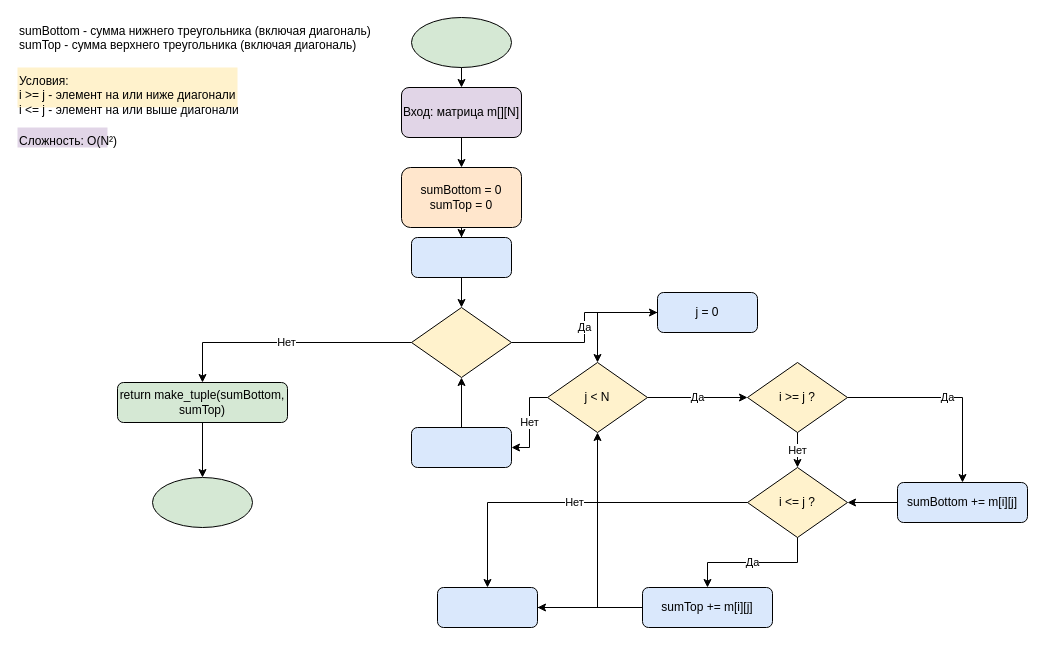
Some shapes in this 1045 by 645 pixel diagram are drawn without their labels. Each missing label, with the box of its shape:
i < N: (410, 306, 512, 378)
i = 0: (410, 236, 512, 278)
i++: (410, 426, 512, 468)
j++: (436, 586, 538, 628)
КОНЕЦ: (152, 476, 252, 528)
НАЧАЛО: (410, 16, 512, 68)
